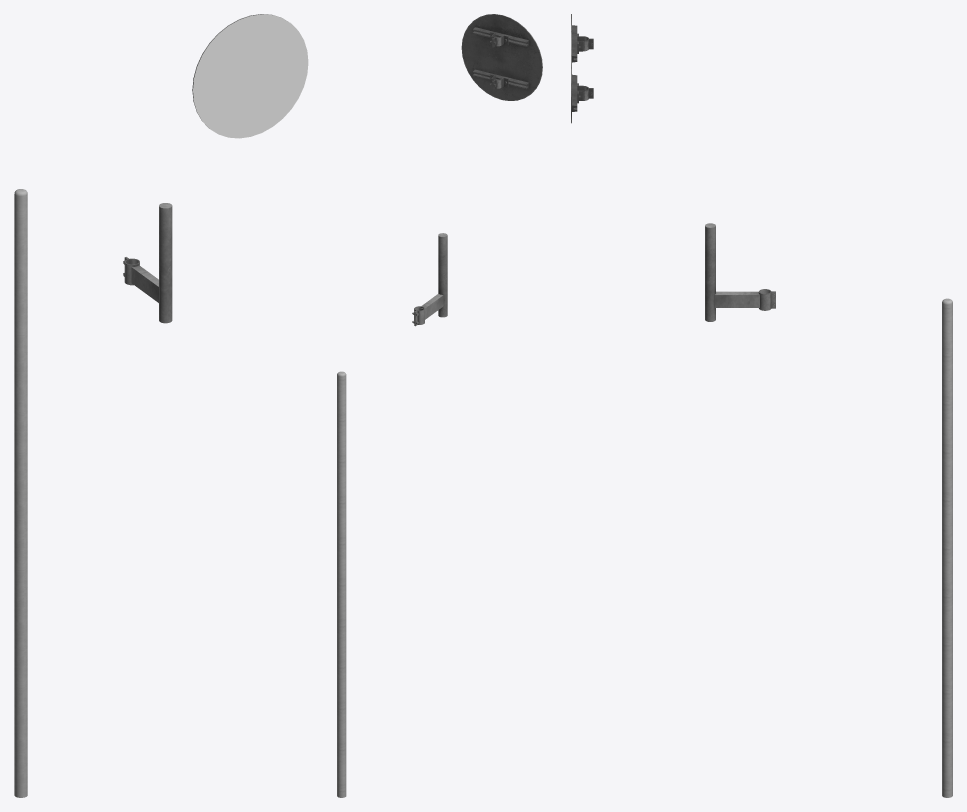
The model's file is TrafficSign.glb.
3 renders of one model, left to right at view 1: azimuth 30°, elevation 25°; view 2: azimuth 150°, elevation 25°; view 3: azimuth 270°, elevation 25°, orthographic. The views are drawn at different scales.
Visible parts, largest first — view 1: TrafficSign_Circle, TrafficSignPole_3.0m, TrafficSign_Arm; view 2: TrafficSign_Circle, TrafficSignPole_3.0m, TrafficSign_Arm; view 3: TrafficSignPole_3.0m, TrafficSign_Arm, TrafficSign_Circle.
Part boxes in pixels (box(x1,y1,x2,y2)): TrafficSign_Circle: box(192, 14, 308, 138); TrafficSignPole_3.0m: box(14, 189, 27, 797); TrafficSign_Arm: box(123, 203, 172, 323); TrafficSign_Circle: box(461, 14, 542, 100); TrafficSignPole_3.0m: box(337, 371, 346, 797); TrafficSign_Arm: box(412, 233, 447, 326); TrafficSignPole_3.0m: box(942, 298, 952, 797); TrafficSign_Arm: box(705, 223, 775, 321); TrafficSign_Circle: box(571, 14, 593, 123).
Bounding box in the file's own units: 0.6 × 4.7 × 2.09.
Materials: 3 (2 with a texture image).
